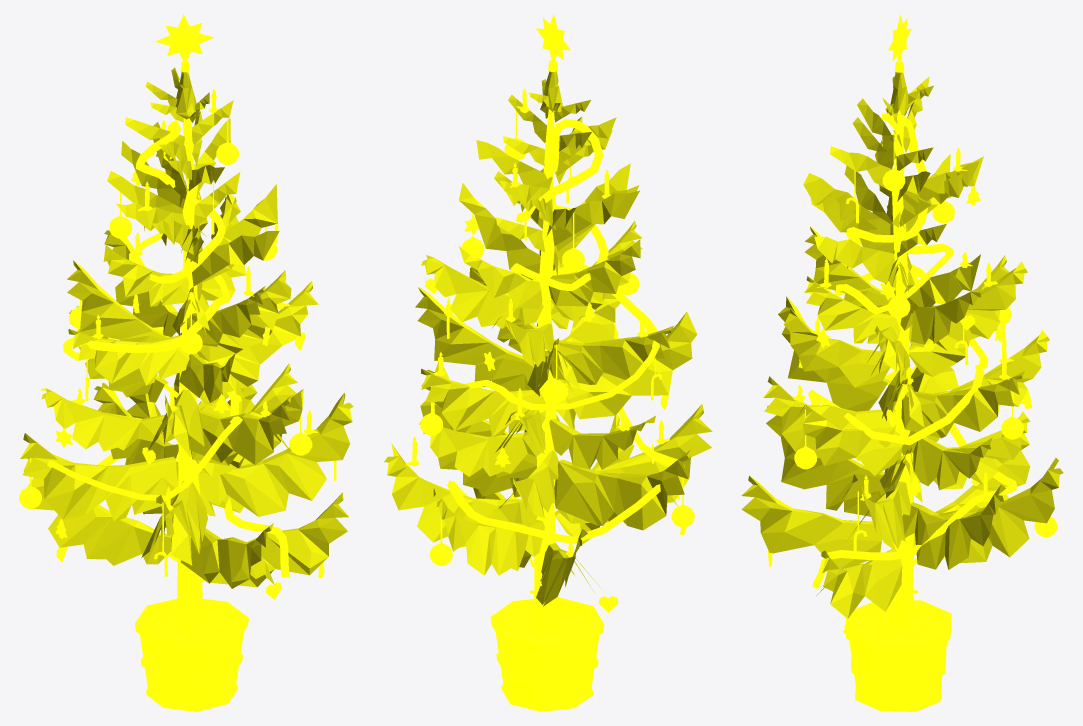
Rendered from tree-christmass.glb.
The picture shows the model from 3 angles, left to right: view 1: azimuth 30°, elevation 25°; view 2: azimuth 150°, elevation 25°; view 3: azimuth 270°, elevation 25°; orthographic projection.
Visible parts, largest first — view 1: tree_christmass; view 2: tree_christmass; view 3: tree_christmass.
Part boxes in pixels (x1,y1,x2,y2): tree_christmass: (19, 14, 353, 711); tree_christmass: (384, 14, 712, 711); tree_christmass: (741, 14, 1063, 711).
Size of the model in its own units: 1.24 by 2.65 by 1.16.
Materials: 2 (2 with a texture image).
